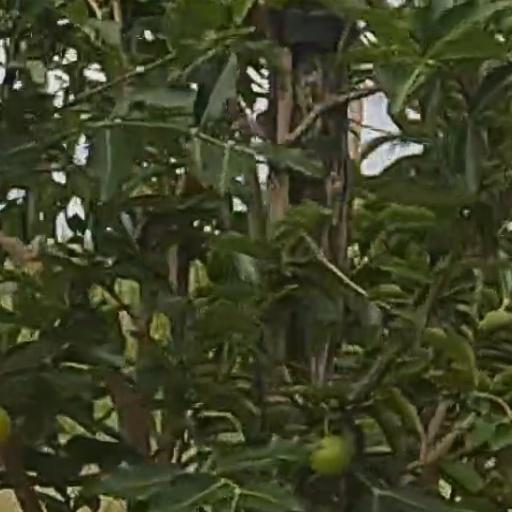acerola: (311, 437, 353, 475)
